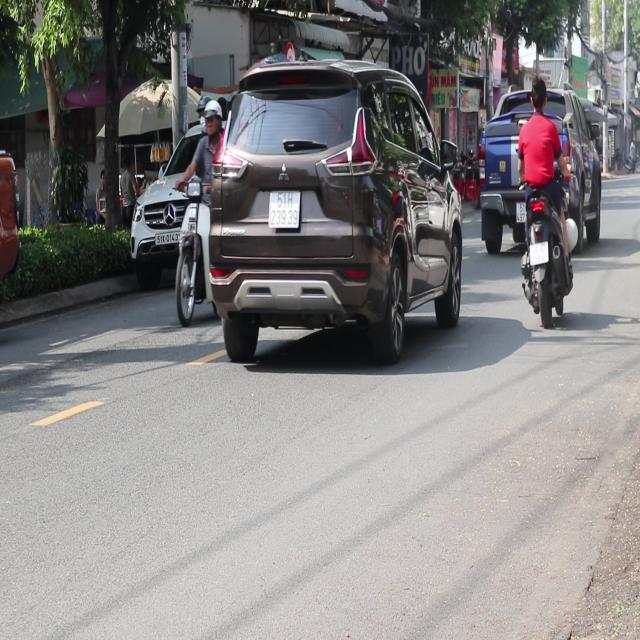helmet: (201, 97, 223, 140)
licenseplate: (514, 74, 576, 324), (170, 91, 228, 327)
motorcyclist: (528, 75, 548, 115)
nohelmet: (530, 241, 548, 264)
